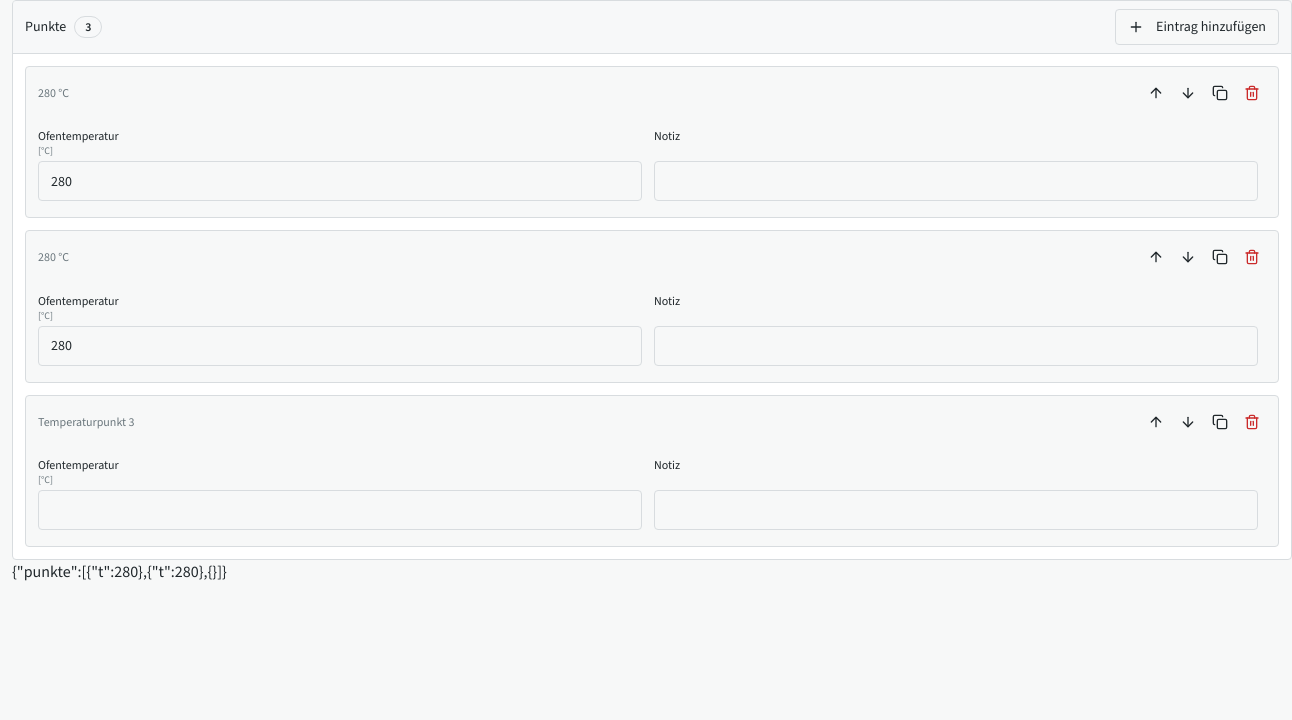
repeater renderer › labels rows by value, updates live, duplicates independent
Check: the elements with test id "repeater-row-label" read "280 °C", "280 °C", "Temperaturpunkt 3", in this order, box 38,85 -> 69,101; 38,249 -> 69,265; 38,414 -> 134,430
Replace the text in the 2nd number field with "360" at (340, 346), box 38,326 -> 642,366
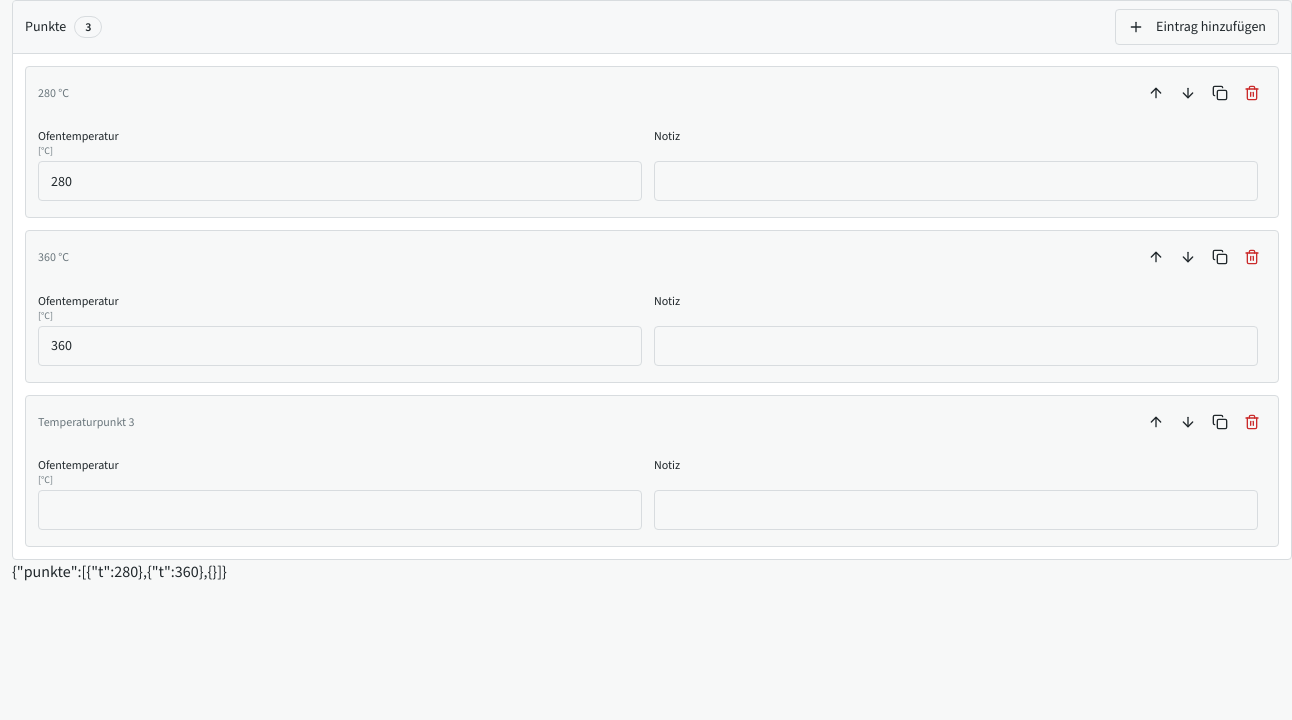
Check: the elements with test id "repeater-row-label" read "280 °C", "360 °C", "Temperaturpunkt 3", in this order, box 38,85 -> 69,101; 38,249 -> 69,265; 38,414 -> 134,430
